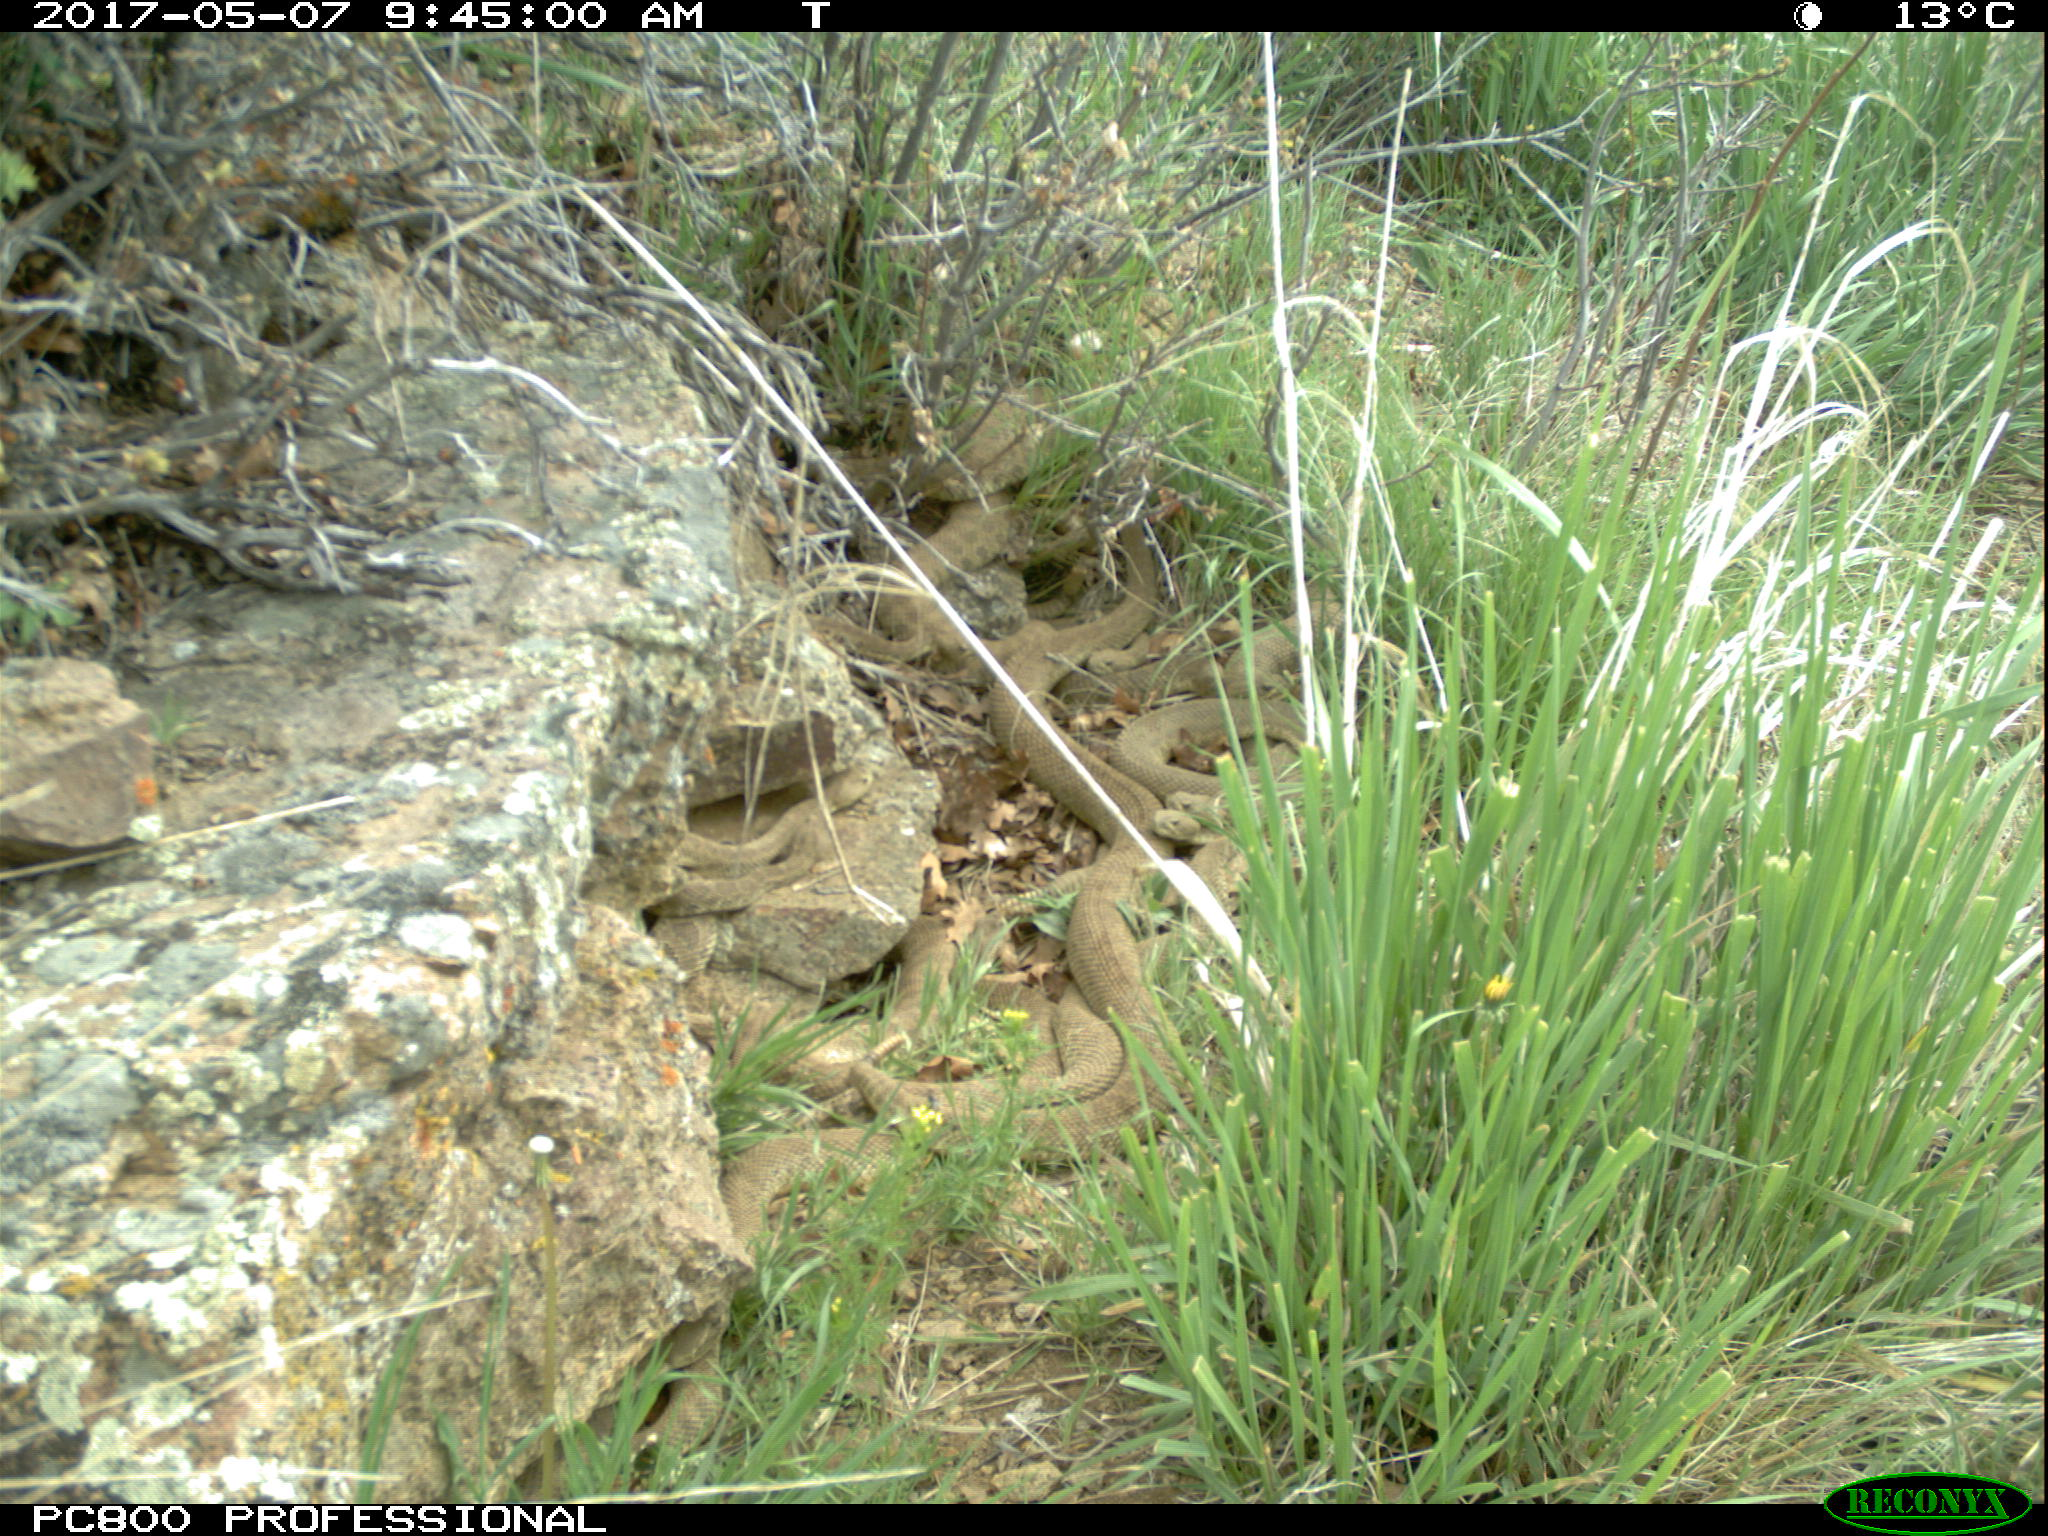snake: (980, 611, 1169, 1084), (819, 390, 1043, 641), (753, 1062, 1180, 1191), (1121, 691, 1363, 845), (1218, 591, 1419, 718), (713, 768, 885, 908), (664, 1115, 735, 1455), (1092, 518, 1176, 652)
